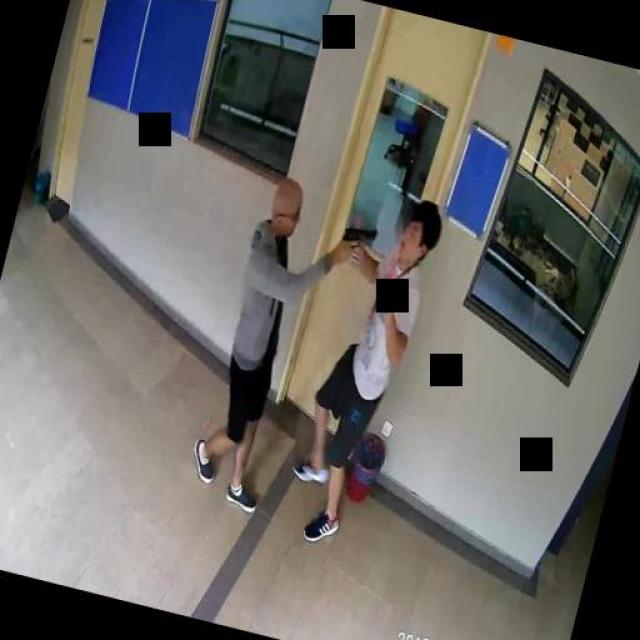gun: (336, 222, 376, 266)
